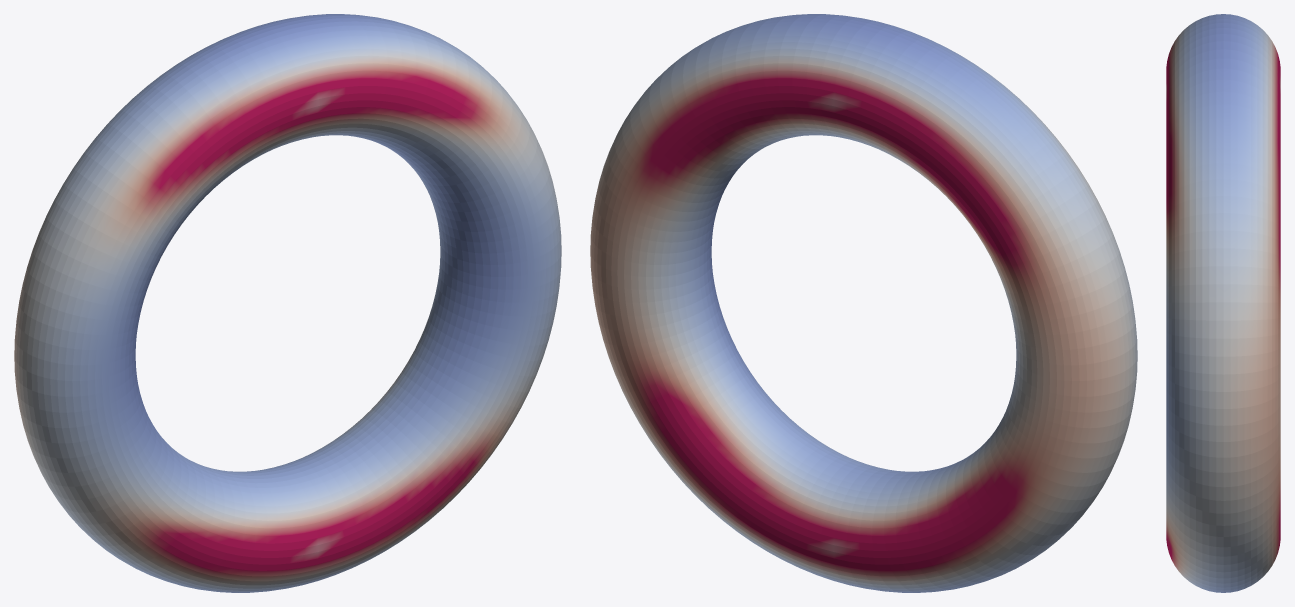
The picture shows the model from 3 angles, left to right: view 1: azimuth 30°, elevation 25°; view 2: azimuth 150°, elevation 25°; view 3: azimuth 270°, elevation 25°; orthographic projection. The views are drawn at different scales.
Parts seen in each view (by area): view 1: world; view 2: world; view 3: world.
Part boxes in pixels (box(x1,y1,x2,y2)): world: box(14, 14, 561, 592); world: box(590, 14, 1137, 592); world: box(1166, 14, 1280, 592).
Size of the model in its own units: 24.93 by 24.93 by 4.92.
